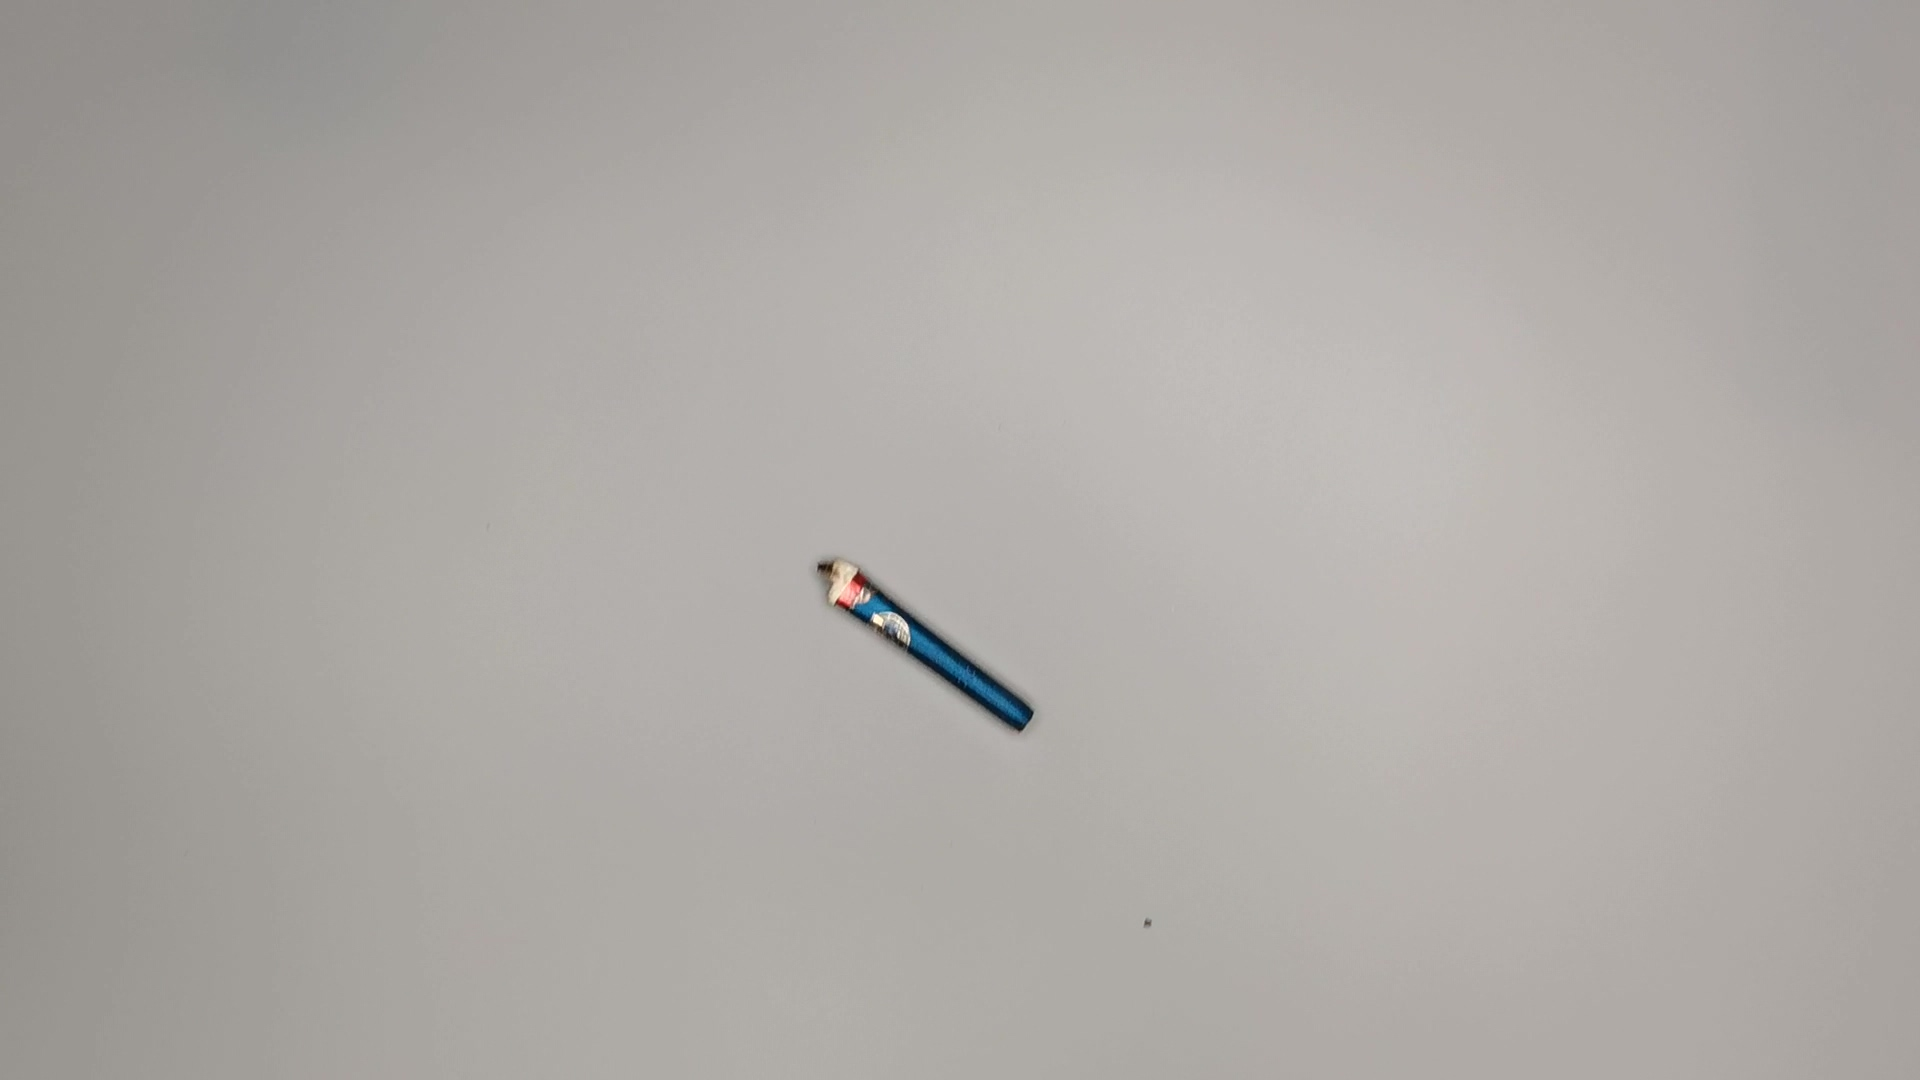cigarette: (811, 556, 1044, 742)
